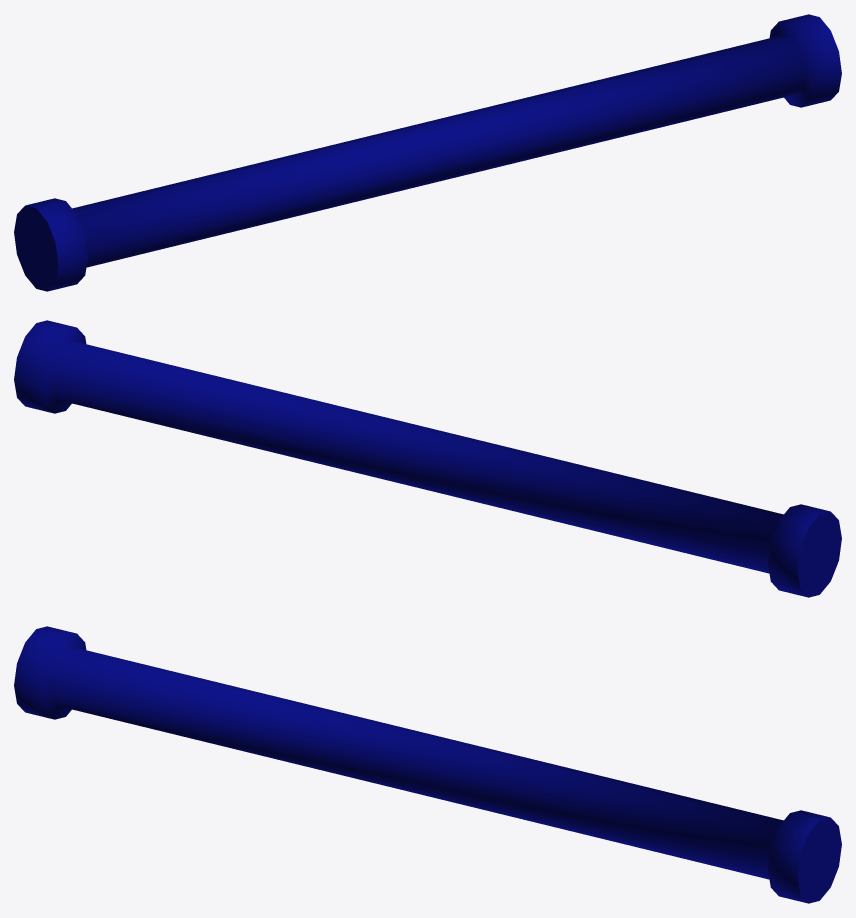
File: _ipe09_low.fbx
The picture shows the model from 3 angles, top to bottom: view 1: azimuth 30°, elevation 25°; view 2: azimuth 150°, elevation 25°; view 3: azimuth 330°, elevation 25°; orthographic projection.
Visible parts, largest first — view 1: Pipe09_low; view 2: Pipe09_low; view 3: Pipe09_low.
Part boxes in pixels (box(x1,y1,x2,y2)): Pipe09_low: box(14, 14, 841, 291); Pipe09_low: box(14, 320, 841, 597); Pipe09_low: box(14, 626, 841, 903).
Size of the model in its own units: 72.94 by 7.17 by 7.17.
